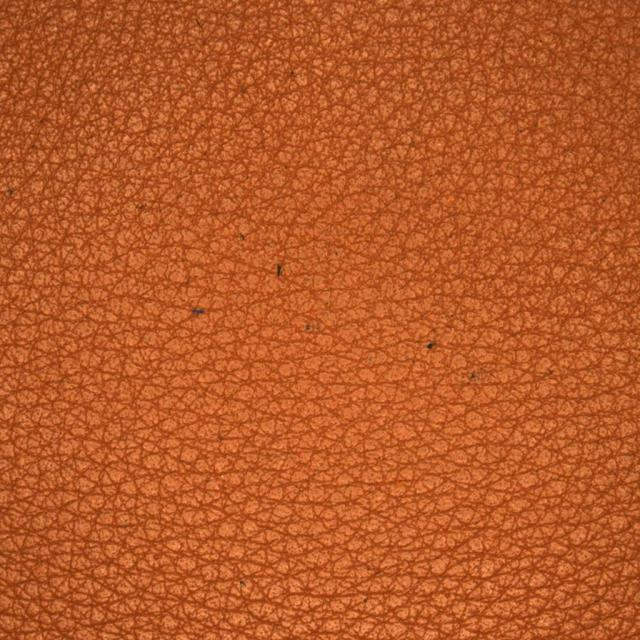Hole: (152, 231, 346, 371), (381, 306, 525, 429)
